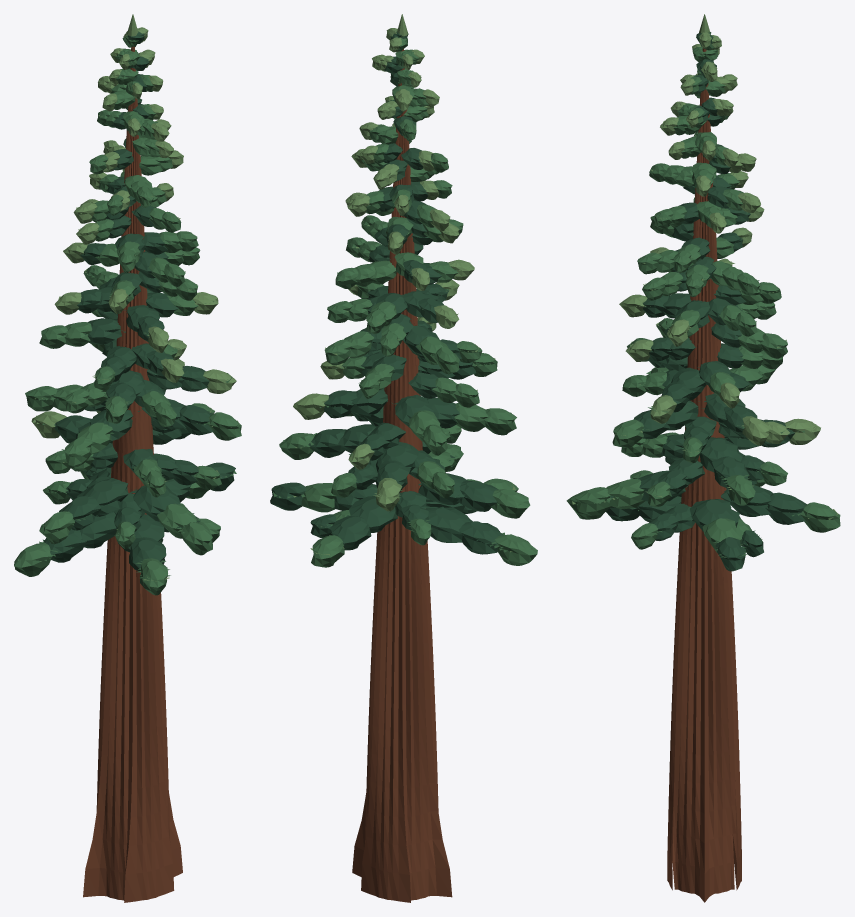
The model's file is redwood_canopy.glb.
3 views of the same model, side by side, from view 1: azimuth 30°, elevation 25°; view 2: azimuth 150°, elevation 25°; view 3: azimuth 270°, elevation 25° (orthographic).
Visible parts, largest first — view 1: redwood_canopy; view 2: redwood_canopy; view 3: redwood_canopy.
Part boxes in pixels (x1=…): redwood_canopy: x1=14, y1=14, x2=241, y2=902; redwood_canopy: x1=270, y1=14, x2=537, y2=902; redwood_canopy: x1=566, y1=14, x2=840, y2=902.
Bounding box in the file's own units: 20.53 × 70.2 × 20.17.
